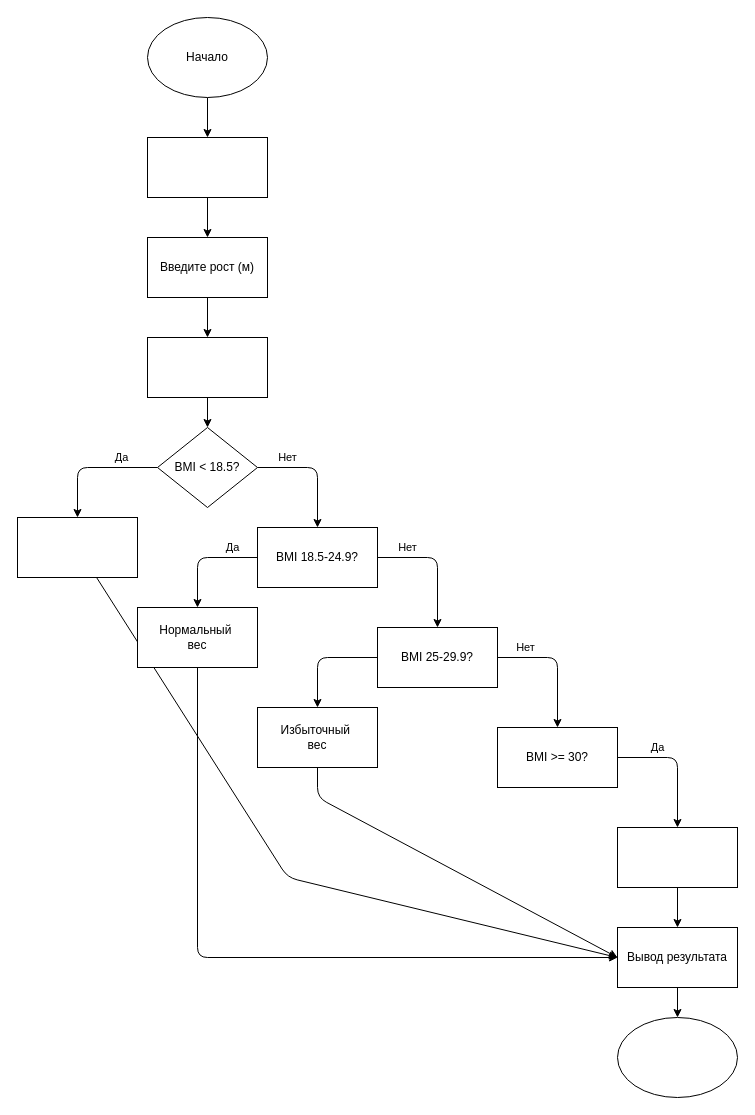
This 755x1115 diagram has some shape labels left out. The centre of each missing label's shape, as x and y in pixels:
BMI = вес / (рост²): point (207, 367)
Введите вес (кг): point (207, 167)
Конец: point (677, 1057)
Недостаточный вес: point (77, 547)
Ожирение: point (677, 857)
